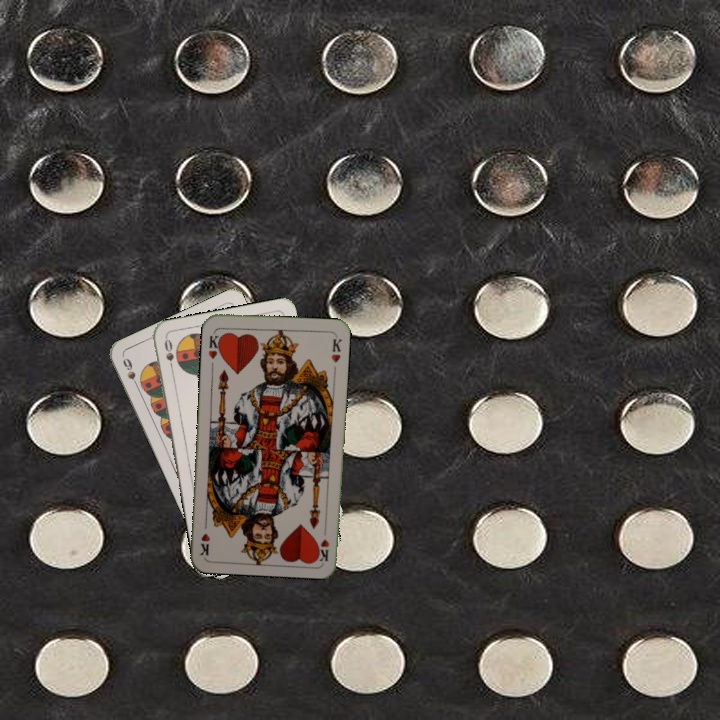HK: (314, 522, 332, 563), (204, 328, 224, 362)
S9: (119, 354, 142, 392)
SO: (160, 335, 176, 375)
